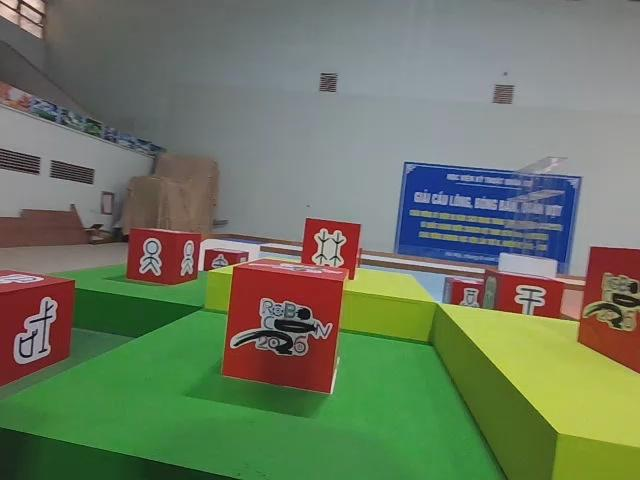R1: (220, 255, 351, 396), (575, 244, 640, 375)
R2 Real: (0, 265, 77, 389), (125, 225, 204, 287), (299, 215, 364, 282)
